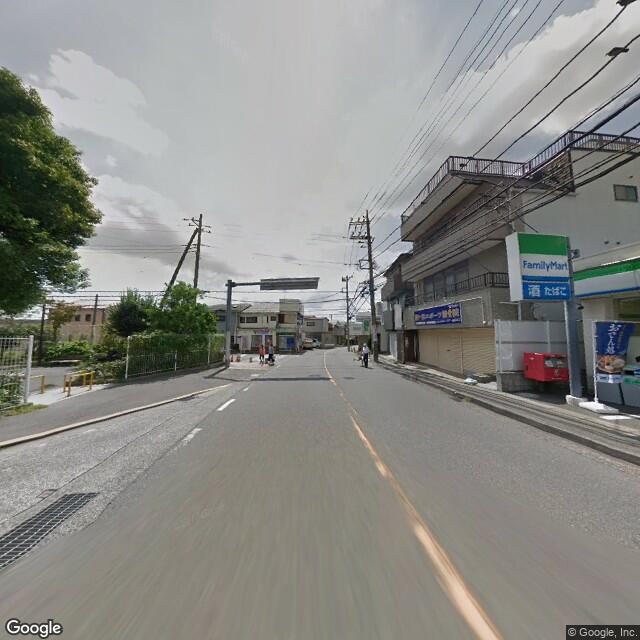family_mart: (513, 231, 571, 288), (574, 255, 637, 296), (520, 254, 568, 272)
